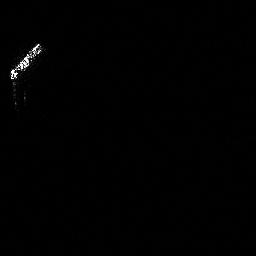ship: (5, 40, 46, 83)
